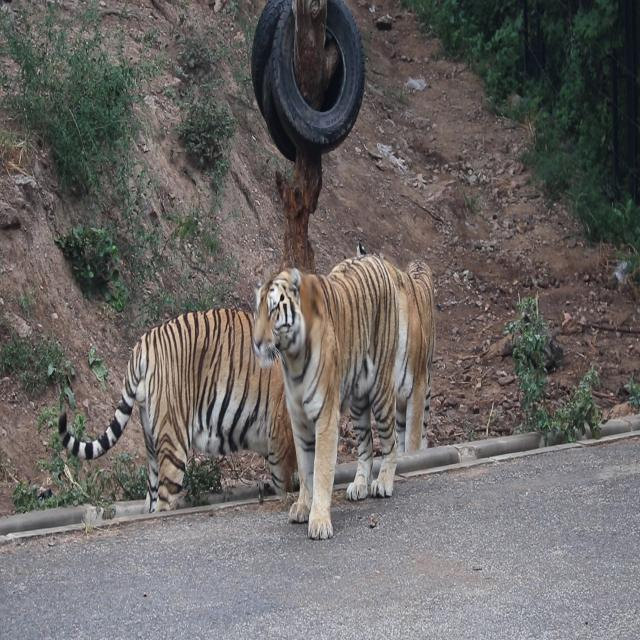Tiger: (54, 308, 304, 534), (253, 236, 402, 535), (361, 240, 454, 452)
